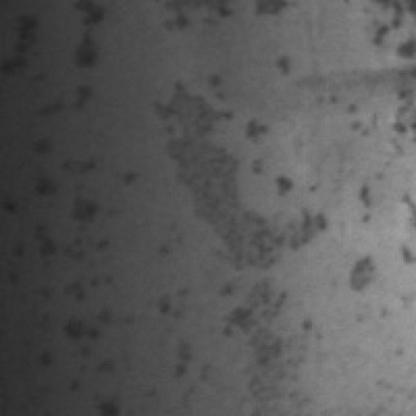pitted_surface: (6, 81, 164, 410), (154, 40, 326, 268), (162, 256, 331, 395), (345, 0, 416, 314)
